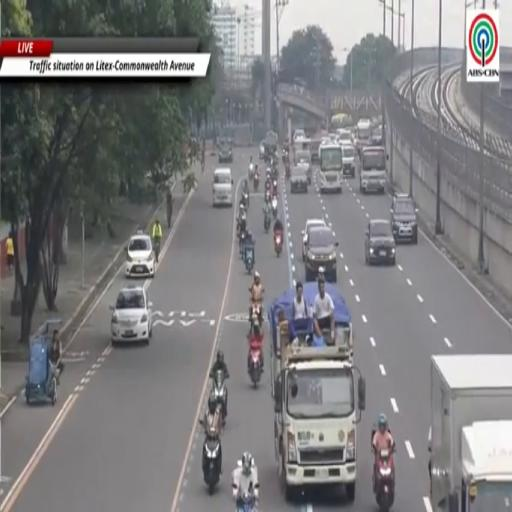car: (111, 285, 152, 346), (305, 228, 338, 282), (364, 218, 396, 266), (390, 194, 417, 245), (125, 232, 155, 277), (301, 219, 326, 261), (295, 151, 312, 184), (340, 143, 355, 178), (290, 166, 308, 193), (218, 139, 233, 163), (310, 139, 321, 165), (293, 130, 305, 141), (259, 140, 264, 159)
motorcycle: (373, 446, 395, 511), (203, 429, 221, 494), (212, 371, 226, 425), (249, 338, 261, 389), (243, 239, 255, 274), (249, 301, 263, 330), (237, 492, 255, 511), (274, 232, 283, 257), (239, 231, 247, 258), (154, 238, 160, 262), (271, 198, 277, 219), (243, 190, 249, 209), (264, 214, 270, 232), (272, 180, 278, 196), (248, 164, 254, 180), (254, 173, 259, 191), (282, 149, 287, 163), (265, 189, 270, 202), (286, 163, 290, 179)
tricycle: (25, 320, 61, 405), (243, 237, 254, 274)
truck: (269, 283, 365, 502), (429, 355, 511, 511), (358, 147, 387, 194), (319, 142, 342, 193), (355, 119, 372, 154)
